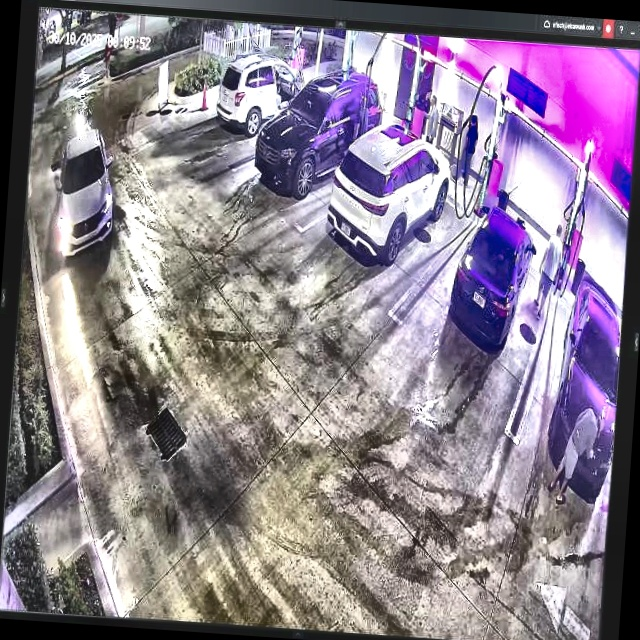Car: (325, 119, 453, 266), (252, 63, 385, 200), (444, 205, 538, 351)
